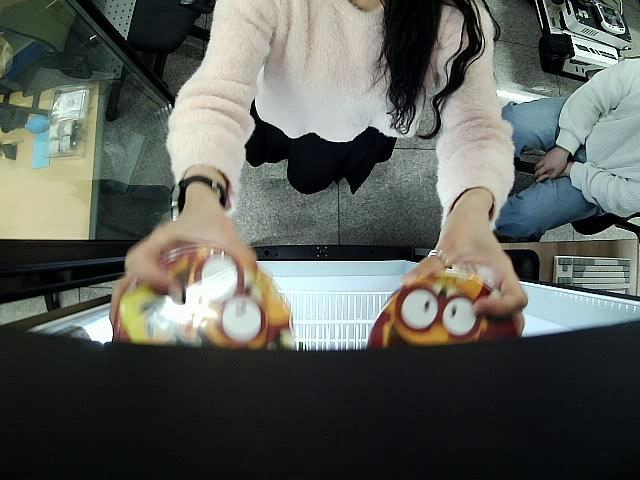05_nuguri_L: (114, 242, 297, 352), (362, 266, 524, 348)
